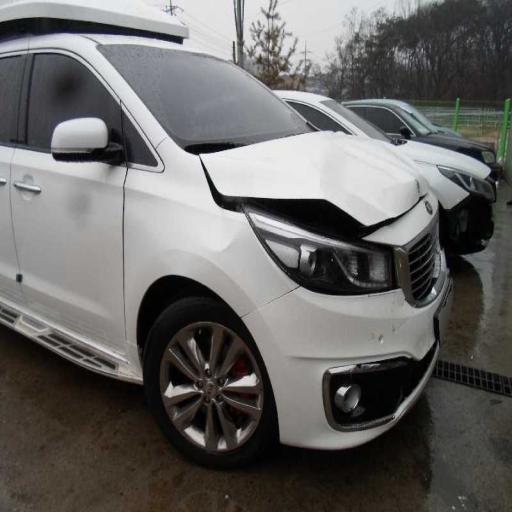broken: (190, 138, 418, 298)
scratch: (344, 322, 432, 367)
